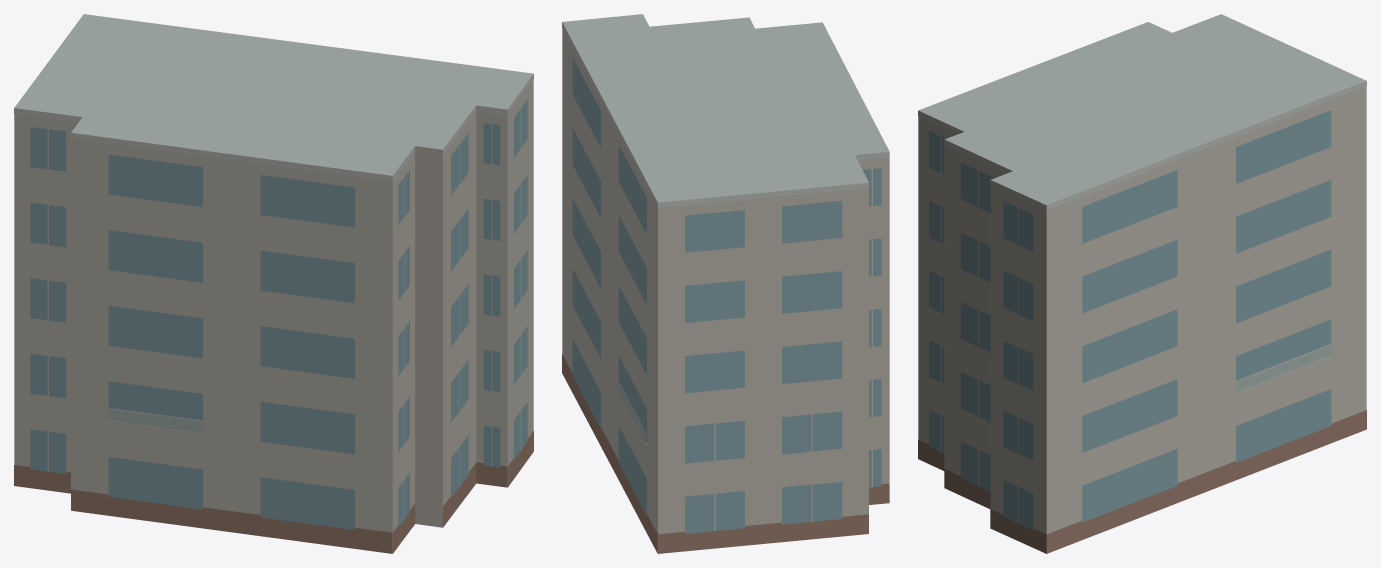
Rendered from survey-upis-32759348.glb.
3 views of the same model, side by side, from view 1: azimuth 30°, elevation 25°; view 2: azimuth 150°, elevation 25°; view 3: azimuth 270°, elevation 25° (orthographic). The views are drawn at different scales.
Parts seen in each view (by area): view 1: survey-upis-32759348.tmp; view 2: survey-upis-32759348.tmp; view 3: survey-upis-32759348.tmp.
Part boxes in pixels (x1=…): survey-upis-32759348.tmp: x1=14, y1=14, x2=533, y2=553; survey-upis-32759348.tmp: x1=562, y1=14, x2=889, y2=553; survey-upis-32759348.tmp: x1=918, y1=14, x2=1366, y2=553.
Bounding box in the file's own units: 18.48 × 15.7 × 18.32.
